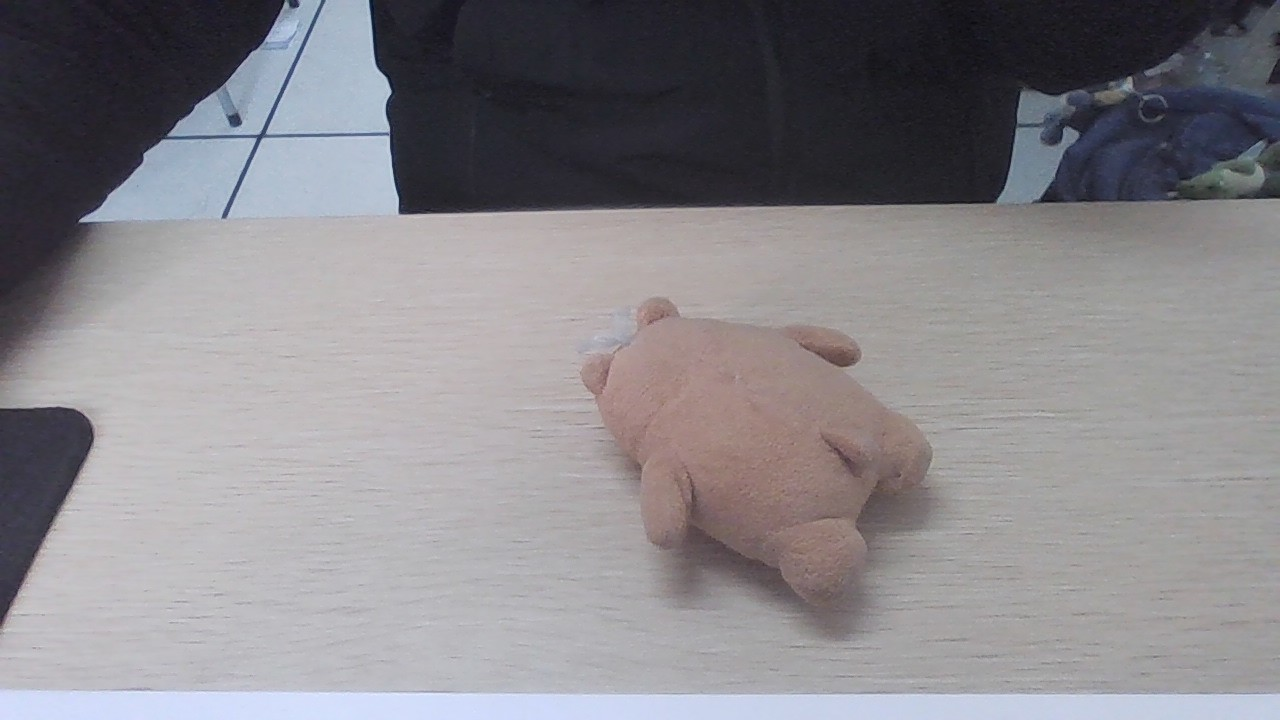KHS-doll: (582, 320, 895, 571)
